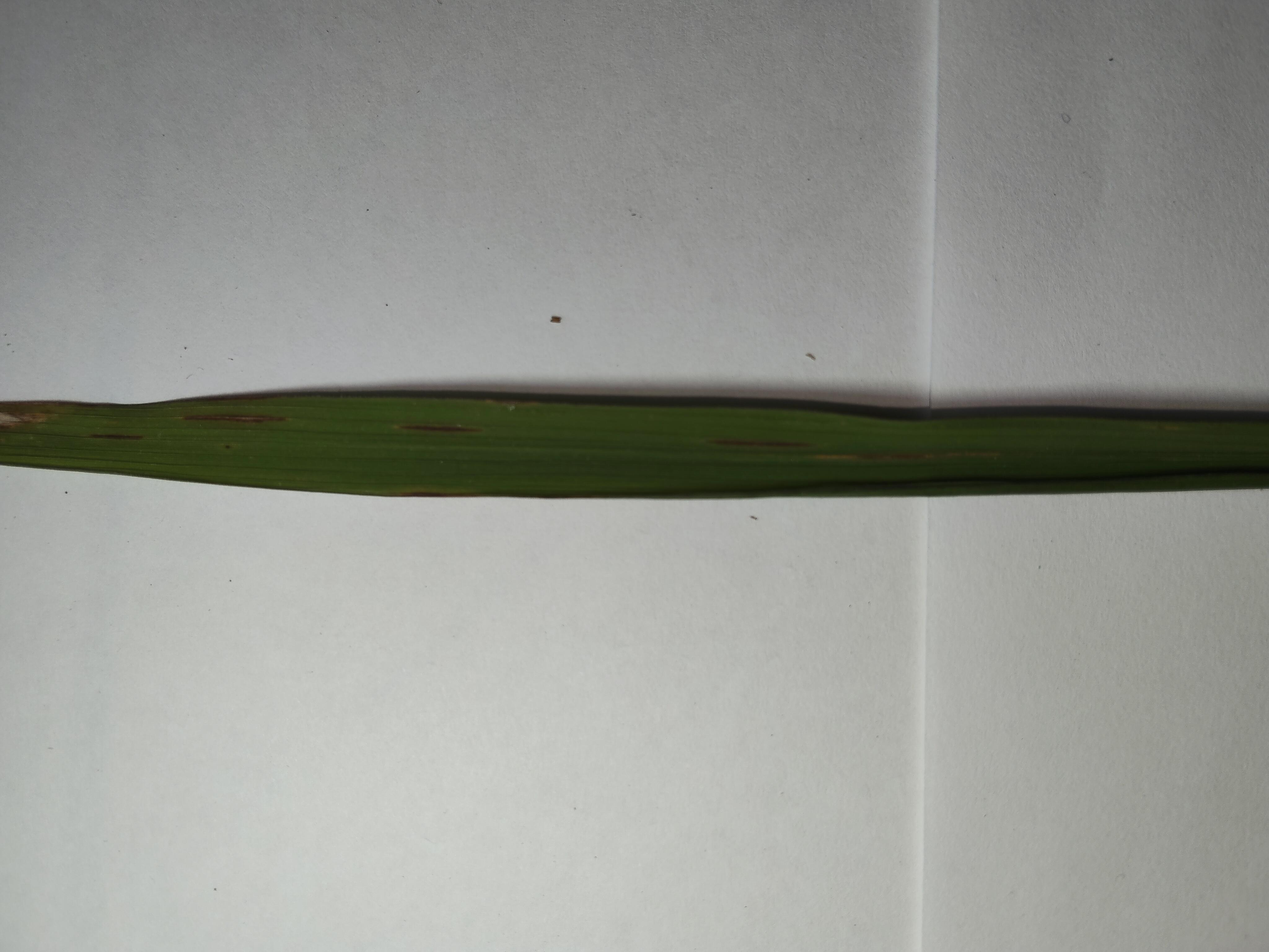NBS: (708, 438, 809, 448), (400, 423, 487, 434), (184, 415, 283, 424), (85, 432, 147, 440)
